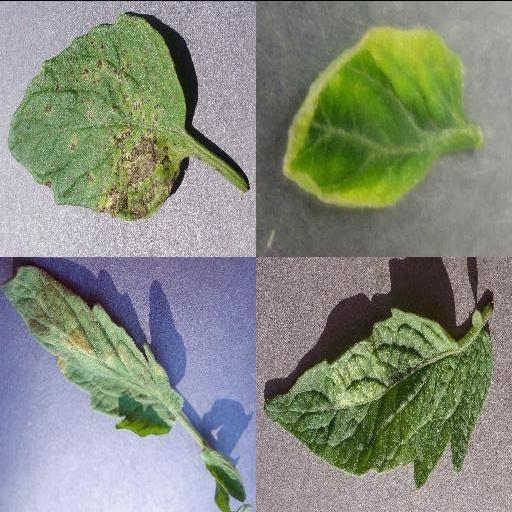Leaf Mold: (0, 263, 185, 436)
Septoria: (7, 10, 187, 220)
Spider Mites: (264, 307, 492, 487)
Yellow Leaf Curl Virus: (280, 22, 468, 207)
